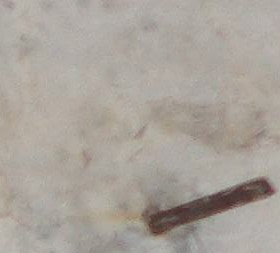Exposed reinforcement: (147, 175, 277, 236)
